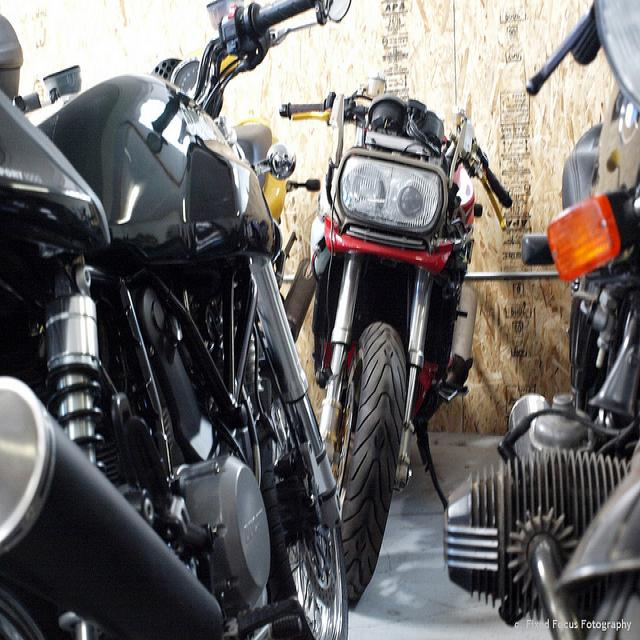motor: (0, 0, 348, 629), (428, 0, 638, 626), (307, 99, 507, 587)
